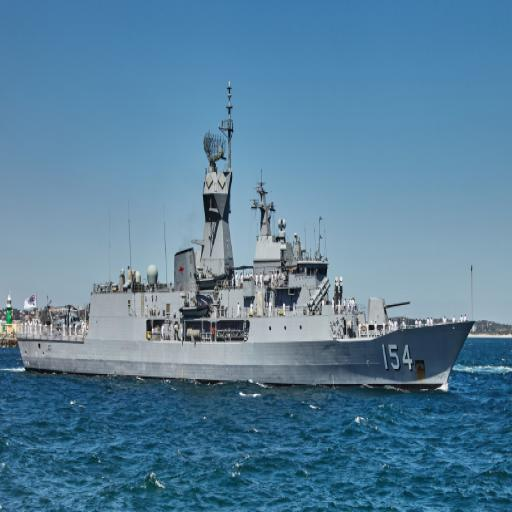Fragata: (18, 78, 477, 396)
